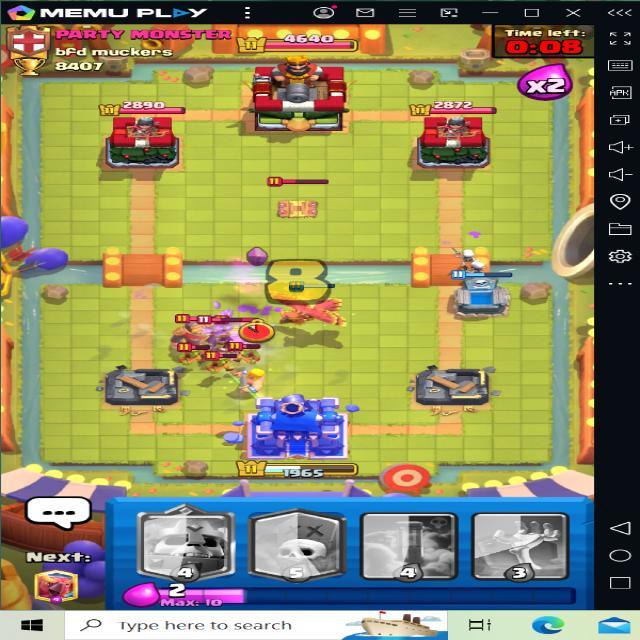archer-queen: (200, 312, 244, 371)
goblin: (210, 350, 236, 373), (176, 347, 206, 366), (244, 350, 267, 367)
knight: (172, 306, 216, 352)
tesla-closed: (266, 170, 340, 229)
